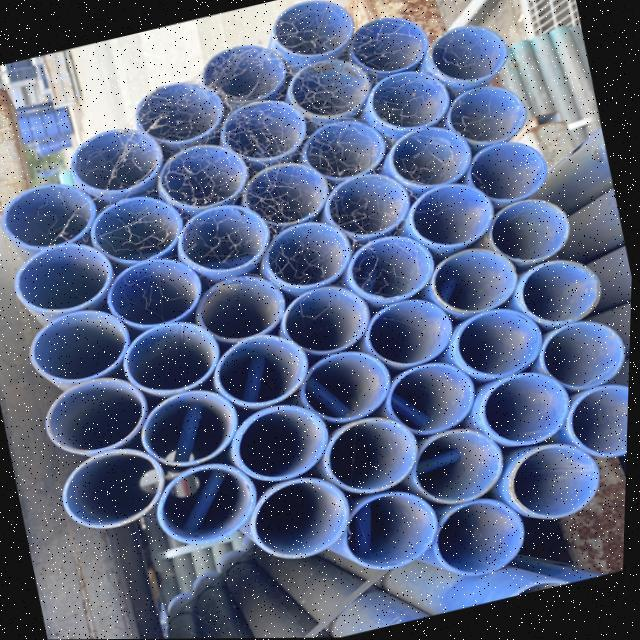pipe: (64, 443, 165, 528), (48, 372, 150, 455), (254, 473, 352, 559), (162, 463, 265, 544), (33, 303, 132, 386), (17, 243, 118, 321), (351, 489, 447, 570), (393, 347, 479, 437), (7, 171, 102, 252), (111, 257, 207, 334), (239, 403, 331, 483), (127, 320, 225, 395), (329, 417, 422, 496), (147, 391, 241, 468), (440, 496, 531, 575), (421, 428, 511, 505), (180, 202, 272, 276), (244, 166, 337, 239), (308, 346, 395, 424), (220, 331, 312, 404), (483, 370, 573, 444), (514, 441, 601, 517), (73, 124, 168, 193), (201, 273, 291, 344), (270, 217, 354, 293), (159, 142, 251, 210), (355, 231, 442, 302), (371, 298, 461, 366), (288, 285, 375, 355), (460, 306, 545, 377), (94, 197, 181, 266), (549, 321, 631, 393), (138, 79, 229, 143), (436, 248, 523, 314), (410, 183, 497, 248), (332, 169, 414, 237), (292, 53, 376, 119), (224, 98, 310, 161), (524, 259, 606, 325), (391, 127, 477, 189), (204, 44, 288, 107), (368, 70, 452, 132), (307, 117, 389, 180), (494, 200, 574, 264), (274, 0, 360, 57), (470, 143, 553, 202), (348, 18, 432, 76), (448, 84, 530, 143), (571, 385, 631, 459), (431, 26, 510, 81)
